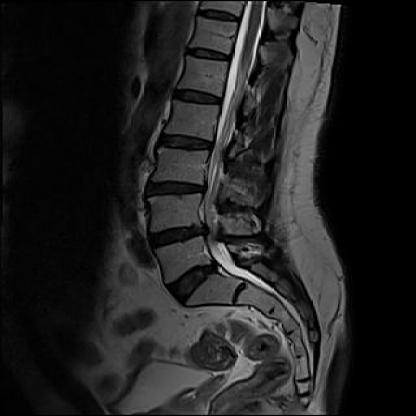Disc Bulgerotation: (145, 178, 204, 200), (150, 224, 205, 247), (157, 132, 211, 154)
Disc Protrusionrotation: (162, 267, 224, 294)
